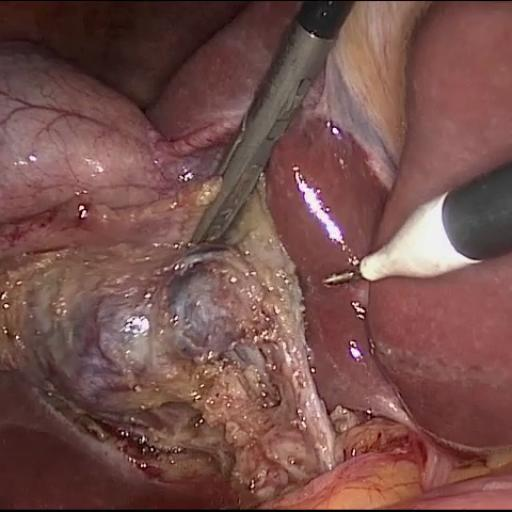Grasper: (139, 0, 365, 281)
Hook: (292, 154, 484, 362)
